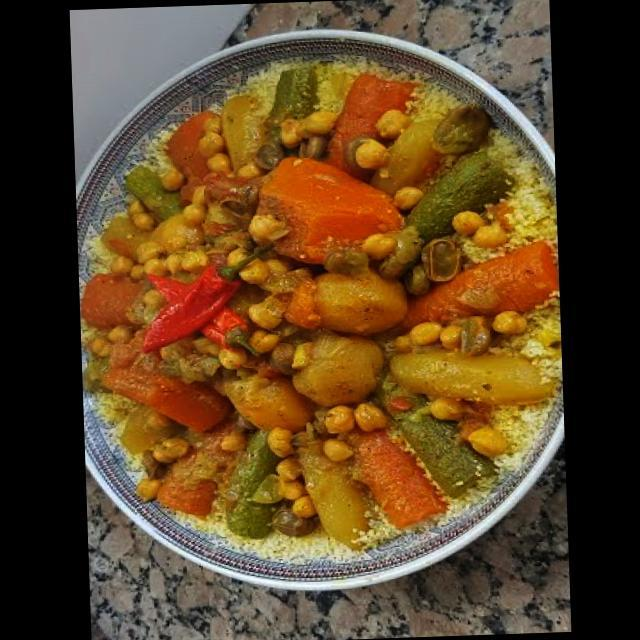Couscous: (70, 17, 570, 602)
